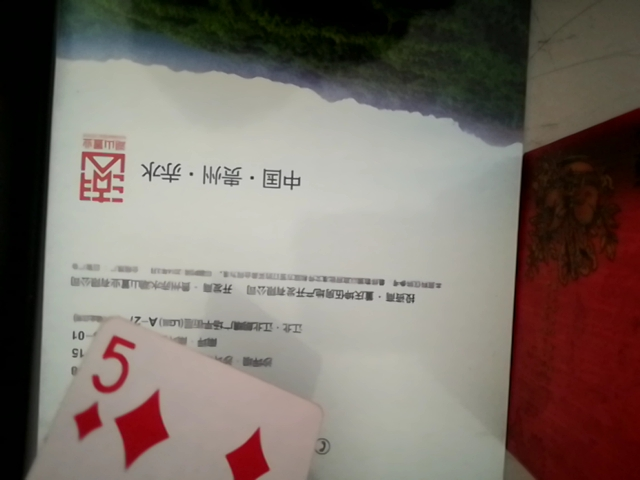fk 5: (2, 300, 358, 479)
